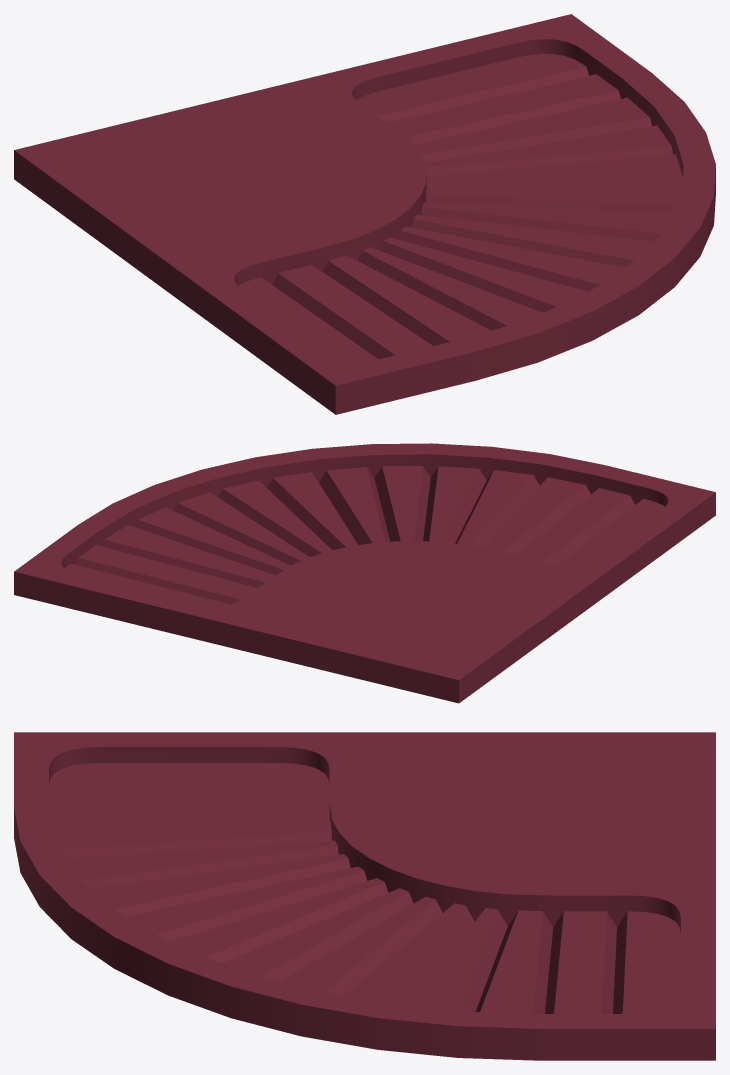
File: Floor_B_1m_TurnIn.FBX
3 renders of one model, top to bottom at view 1: azimuth 30°, elevation 25°; view 2: azimuth 150°, elevation 25°; view 3: azimuth 270°, elevation 25°, orthographic. The views are drawn at different scales.
Visible parts, largest first — view 1: Floor_B_1m_TurnIn; view 2: Floor_B_1m_TurnIn; view 3: Floor_B_1m_TurnIn.
Boxes of the visible parts, x1,y1,x2,y2 form: Floor_B_1m_TurnIn: (14,14,715,414); Floor_B_1m_TurnIn: (14,443,715,703); Floor_B_1m_TurnIn: (14,732,715,1060).
Size of the model in its own units: 200 by 10 by 200.
